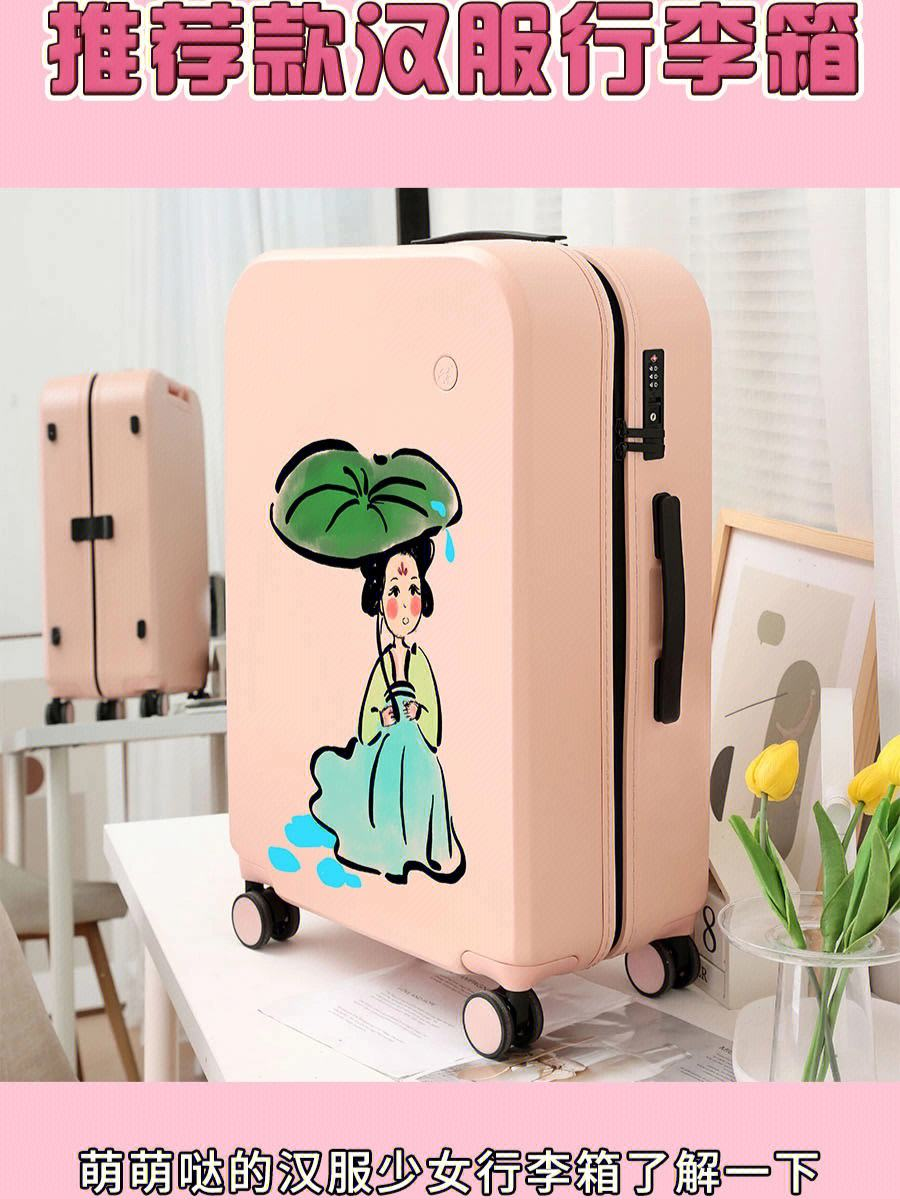box: (223, 245, 712, 981)
handle: (652, 492, 685, 723), (411, 230, 569, 245)
lock: (626, 348, 667, 462)
wheel: (462, 983, 544, 1062), (624, 935, 701, 999), (231, 886, 300, 951)
